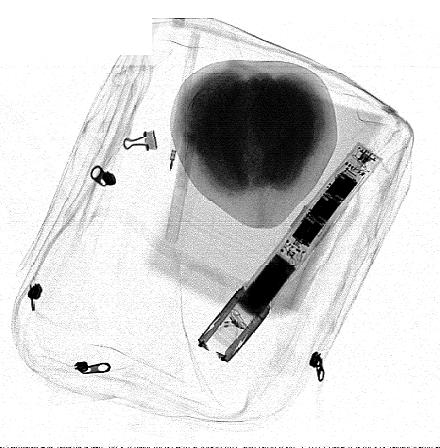Baton: (196, 141, 384, 366)
